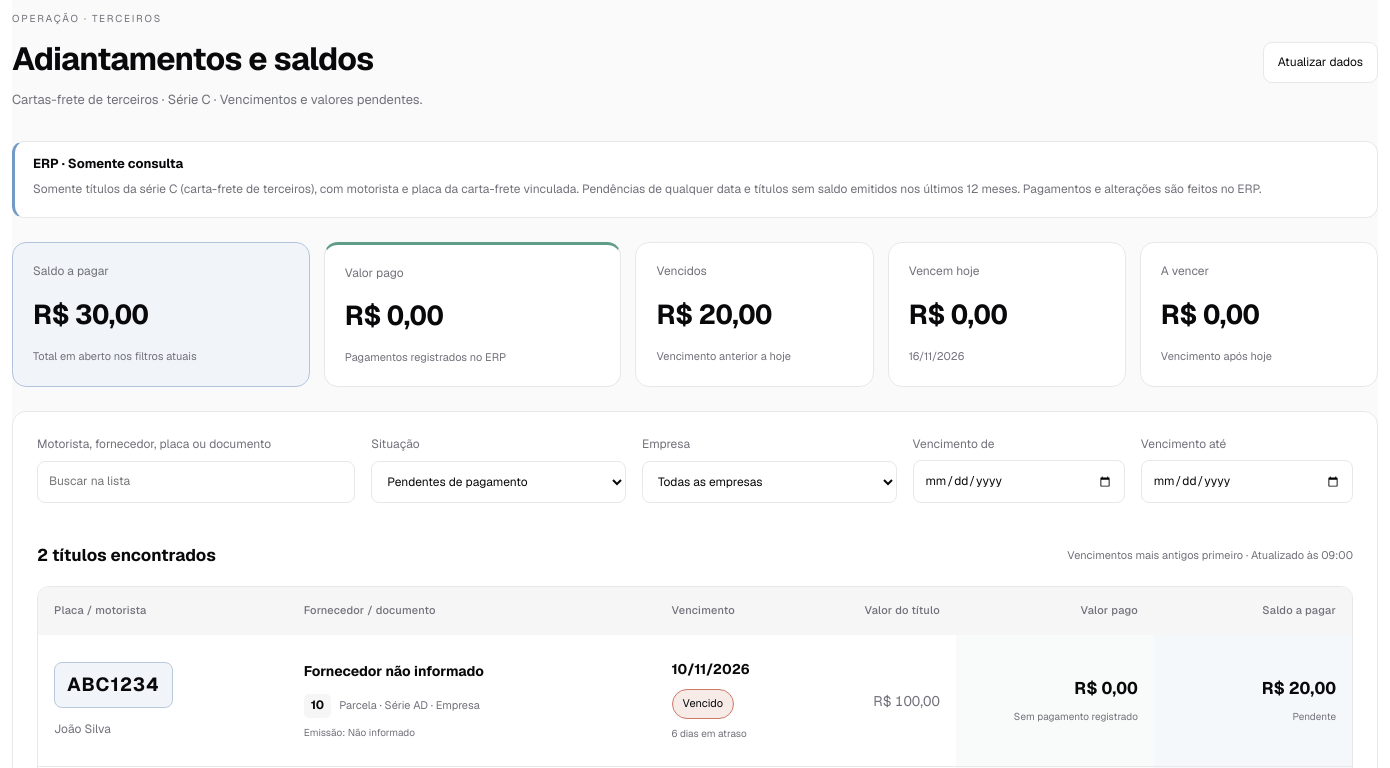
Scenario: consulta dados reais sem oferecer mutacoes e permite ver baixados
This screenshot has width=1390, height=768.
Check: the text "João Silva" is shown, box left=54, top=721, right=111, bottom=737
Check: the text "José" is not shown
Select "Sem saldo em aberto" in the dropdown labelled "Situação" at (499, 482), box left=371, top=461, right=626, bottom=504
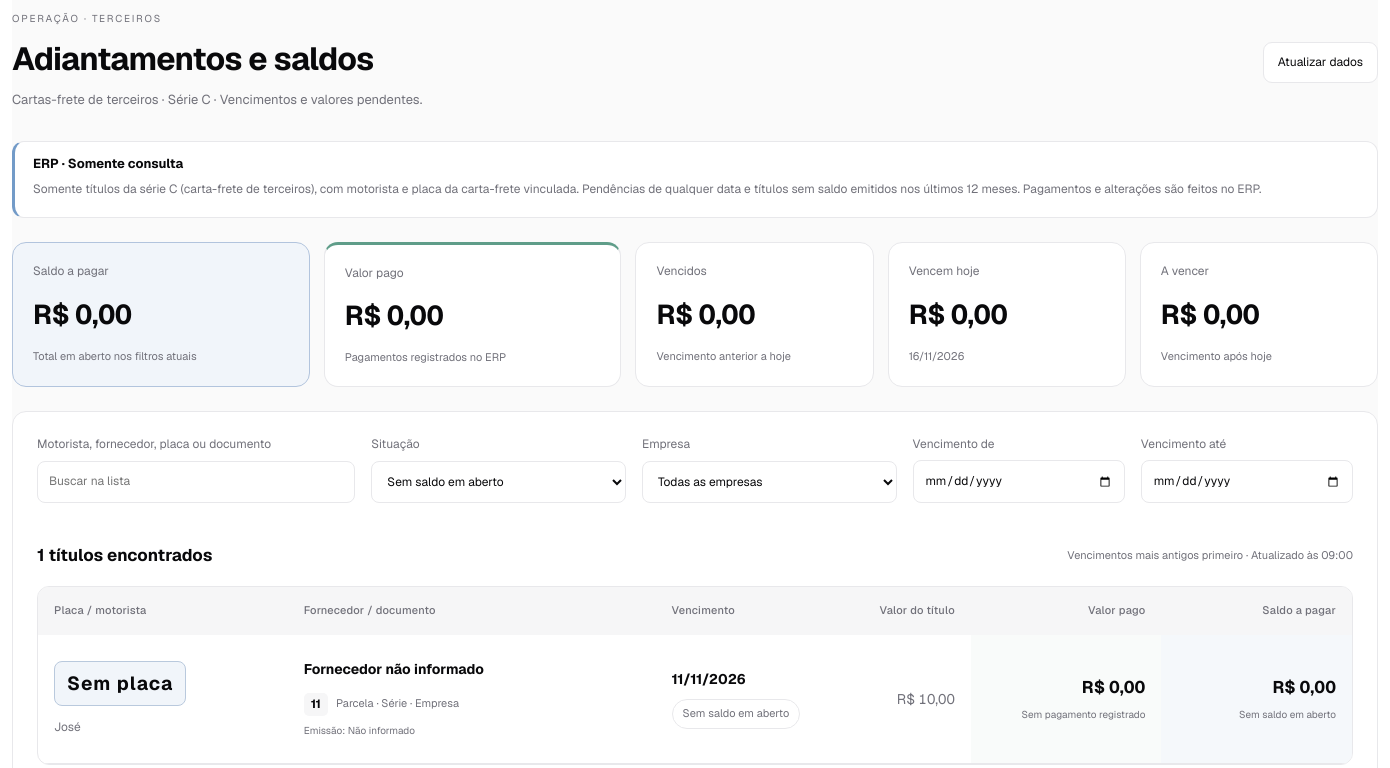
Check: the text "José" is shown, box left=54, top=719, right=81, bottom=735
Check: the text "João Silva" is gone
